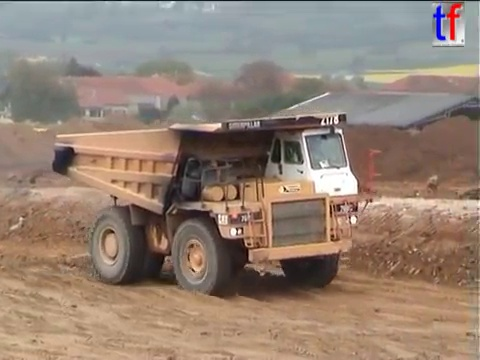truck: (48, 109, 385, 298)
